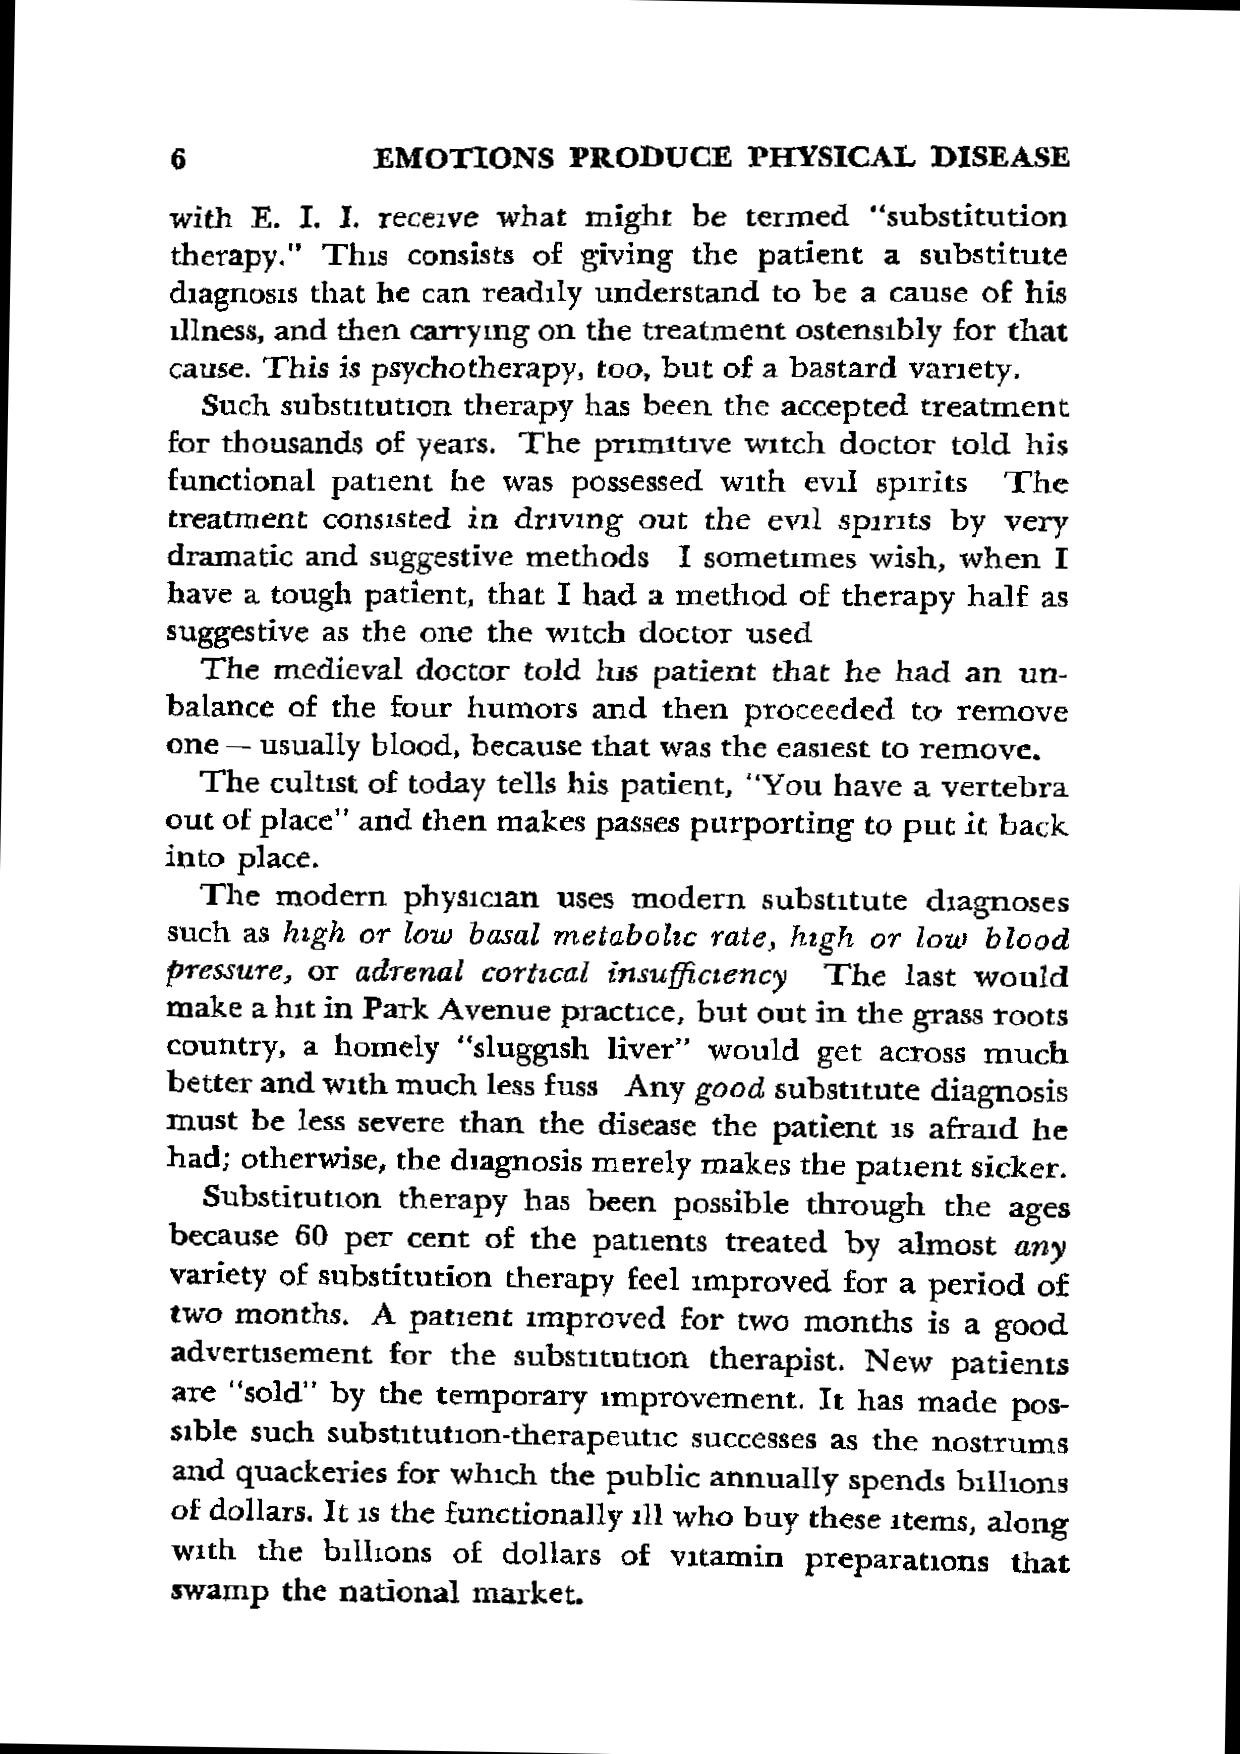content: (162, 203, 1076, 1617)
content_chapter: (369, 144, 1067, 169)
content_pagenumber: (166, 142, 191, 169)
